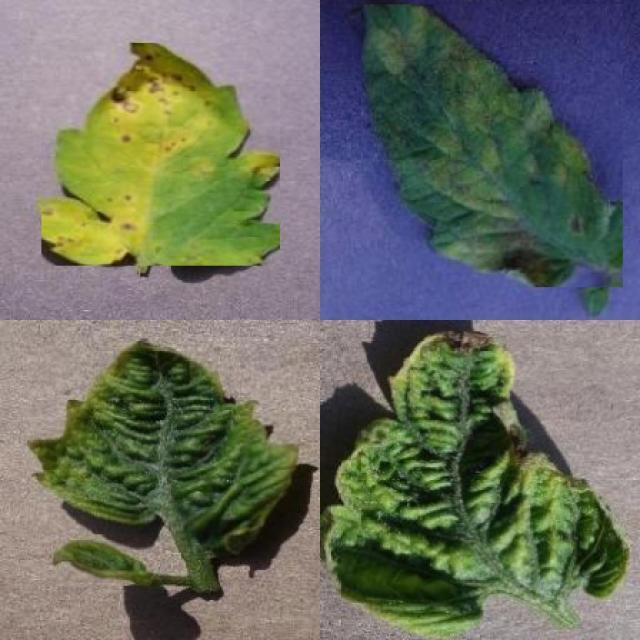Leaf Mold: (360, 4, 623, 287)
Septoria: (41, 44, 280, 266)
Yellow Leaf Curl Virus: (325, 328, 626, 632), (27, 337, 299, 559), (52, 535, 152, 586)
